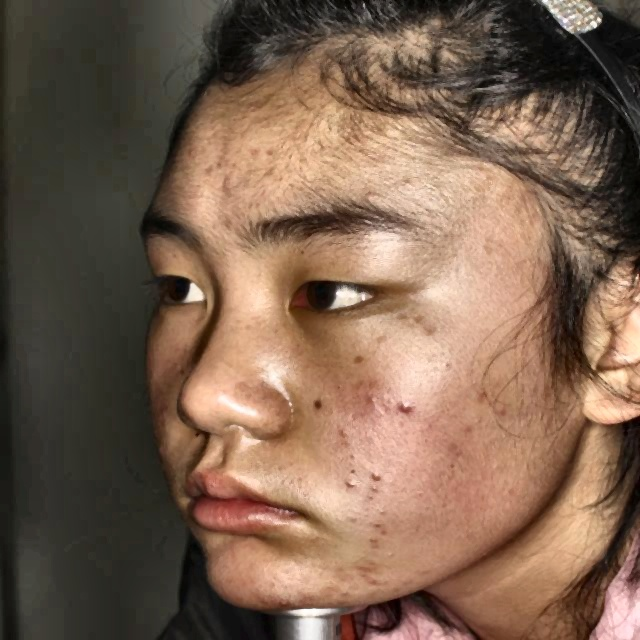pustule: (361, 462, 391, 495), (352, 556, 386, 583), (250, 140, 287, 161), (366, 518, 398, 542), (396, 392, 423, 420), (213, 177, 243, 195), (339, 581, 361, 604)
